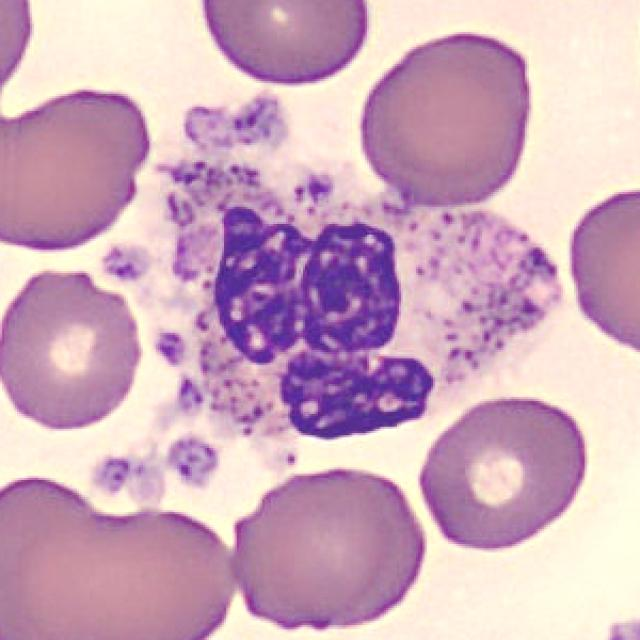WBC: (66, 83, 574, 512)
